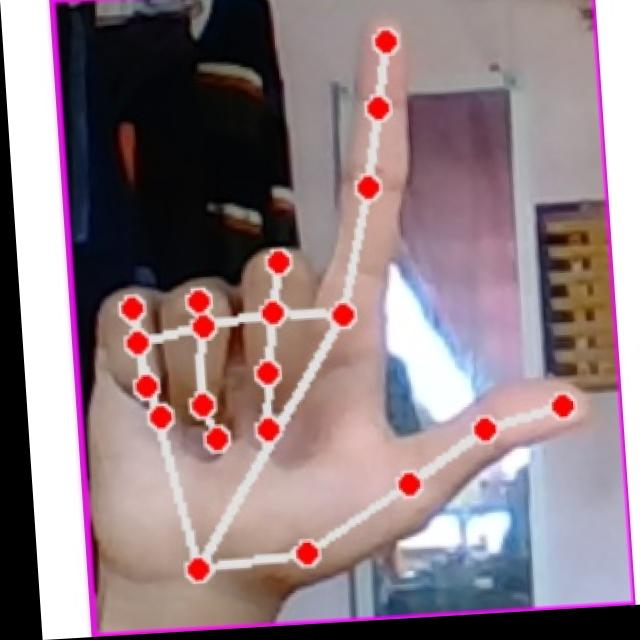L: (67, 0, 595, 594)
